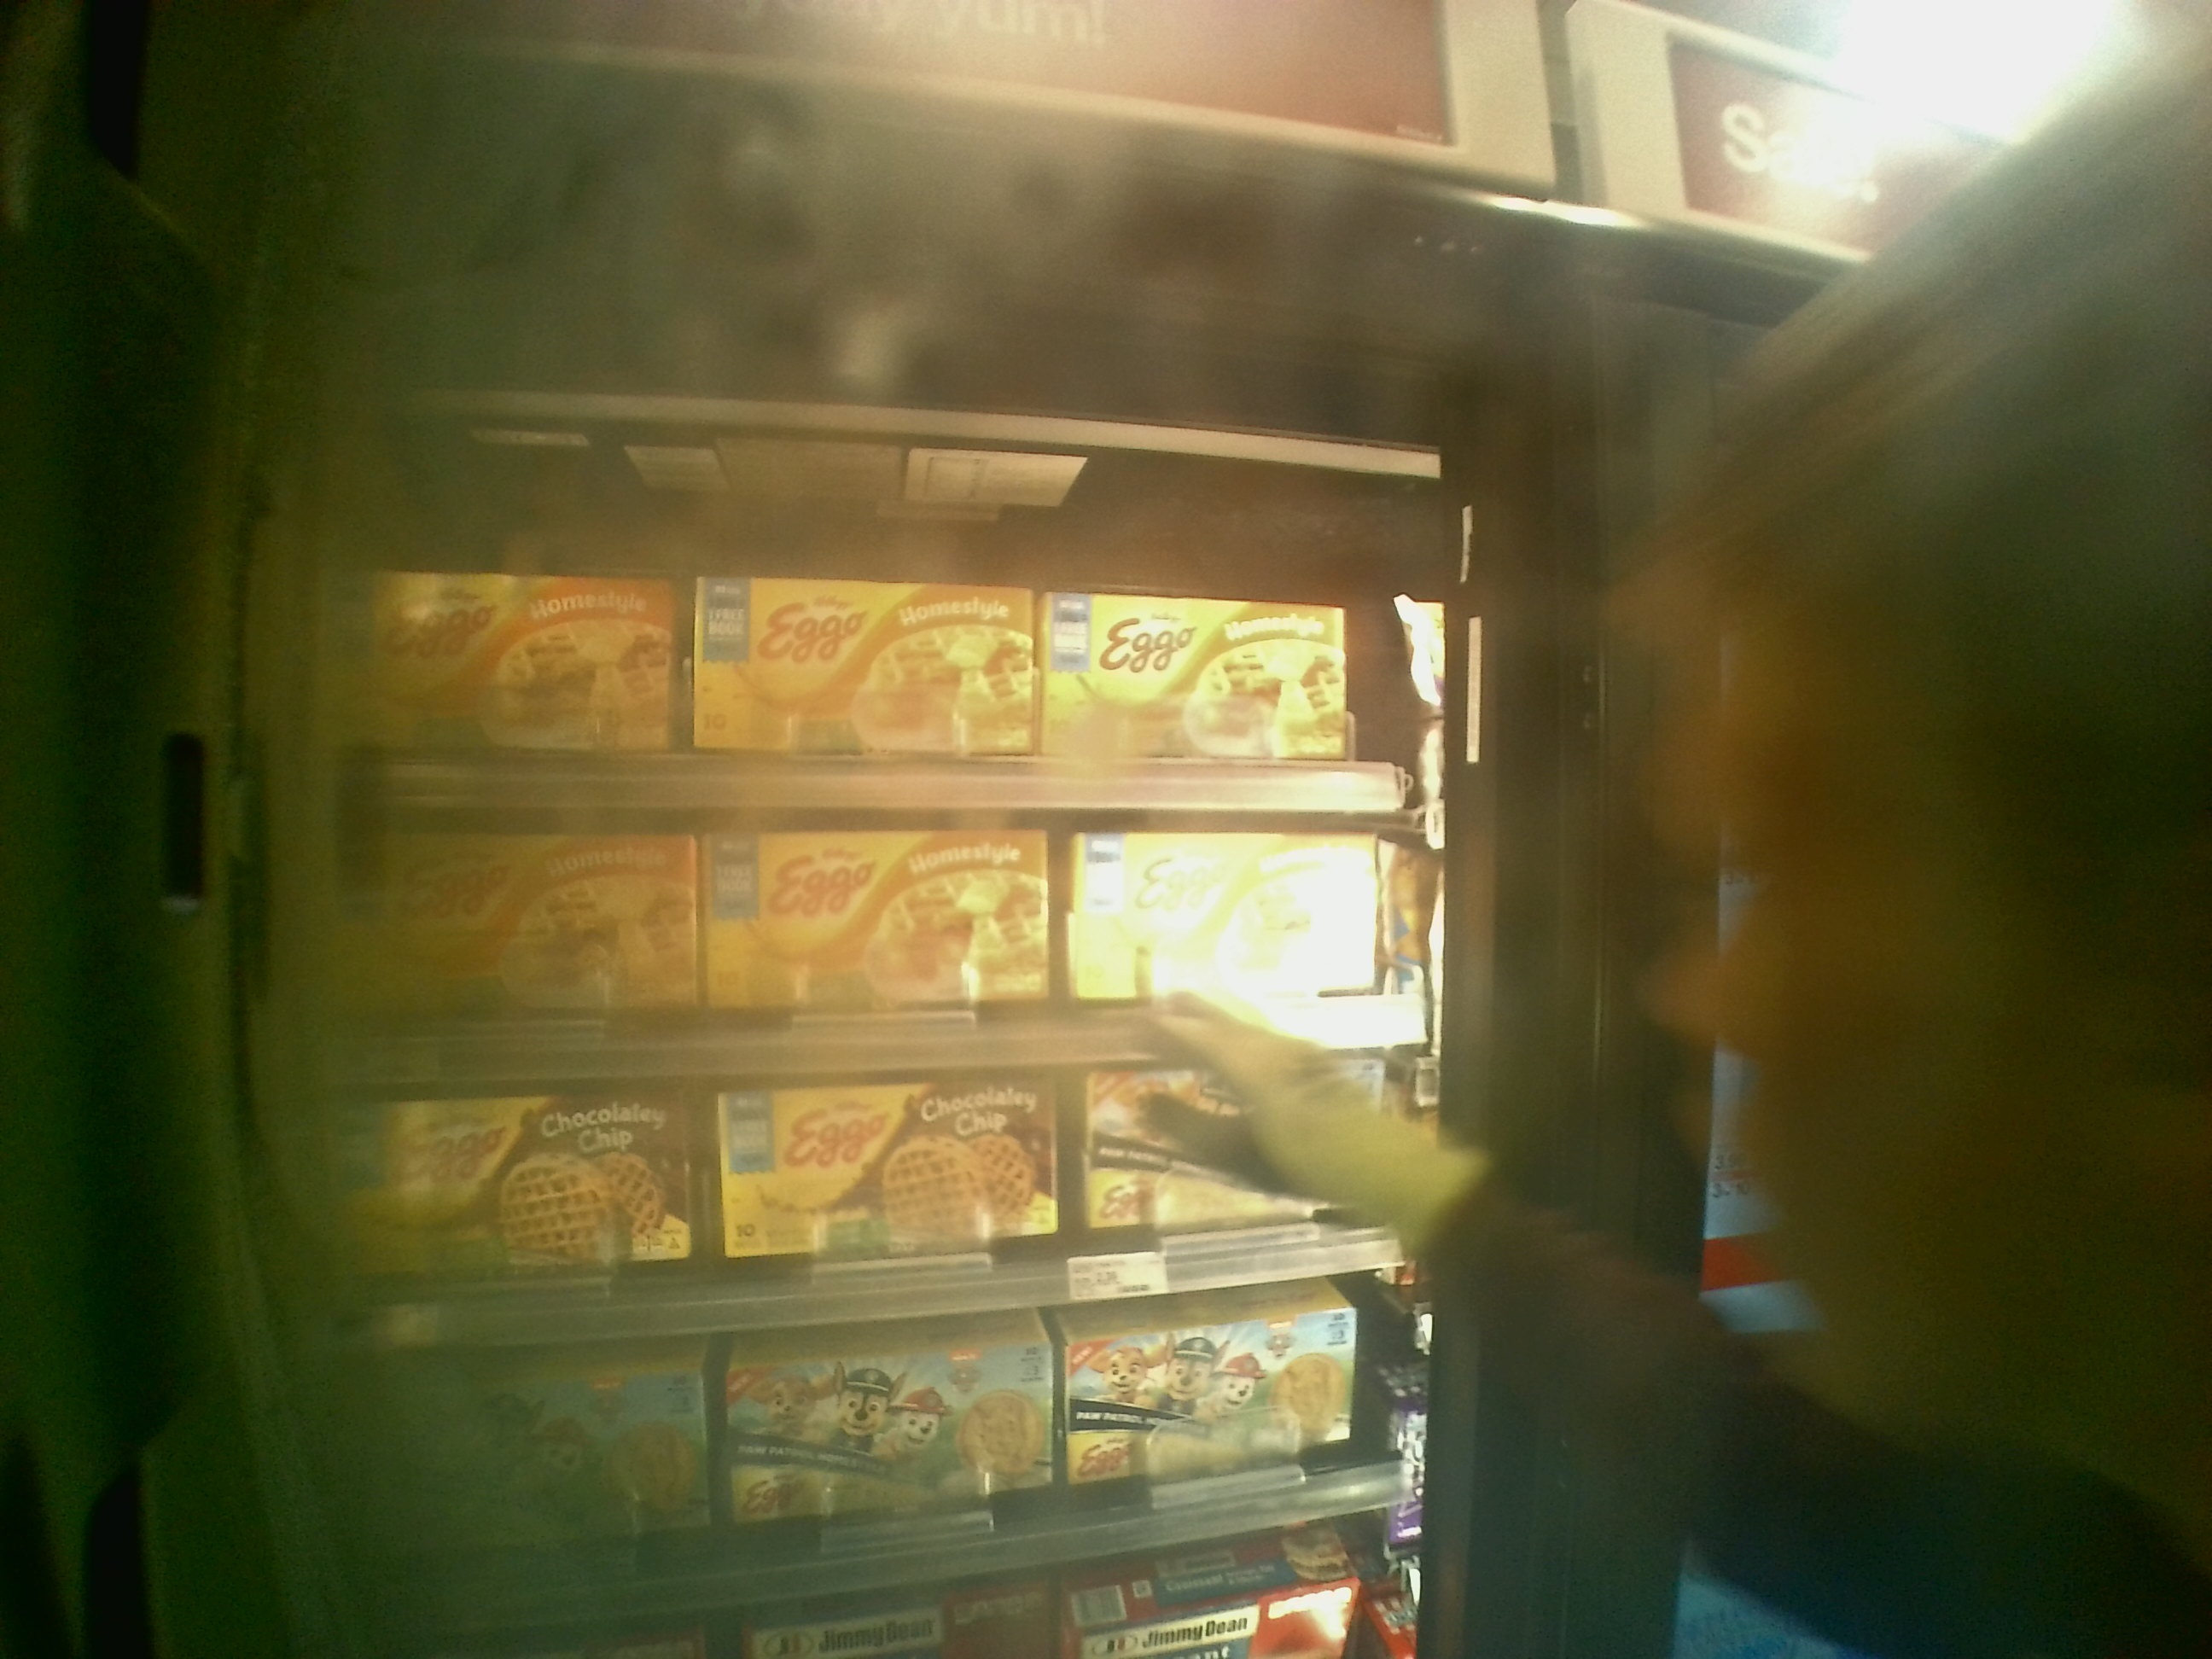shelf: (329, 462, 1406, 817)
